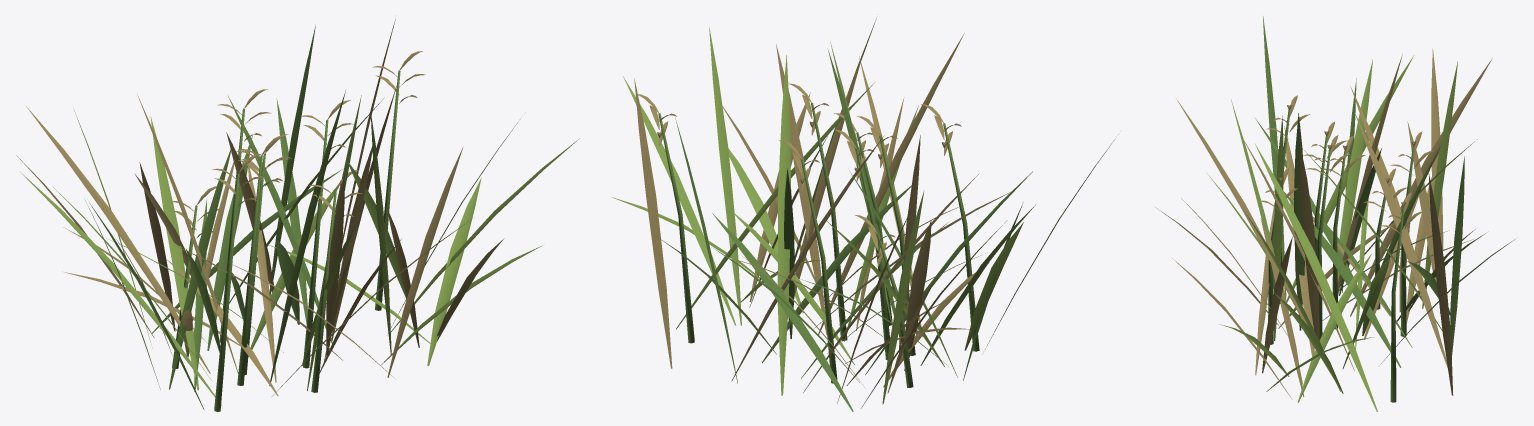
File: sc_rushes.glb
3 views of the same model, side by side, from view 1: azimuth 30°, elevation 25°; view 2: azimuth 150°, elevation 25°; view 3: azimuth 270°, elevation 25° (orthographic). The views are drawn at different scales.
Visible parts, largest first — view 1: sc_rushes; view 2: sc_rushes; view 3: sc_rushes.
Part boxes in pixels (<box>): sc_rushes: <box>16,19,579,411</box>; sc_rushes: <box>611,18,1118,411</box>; sc_rushes: <box>1155,16,1514,411</box>.
Bounding box in the file's own units: 1.86 × 1.03 × 1.31.
